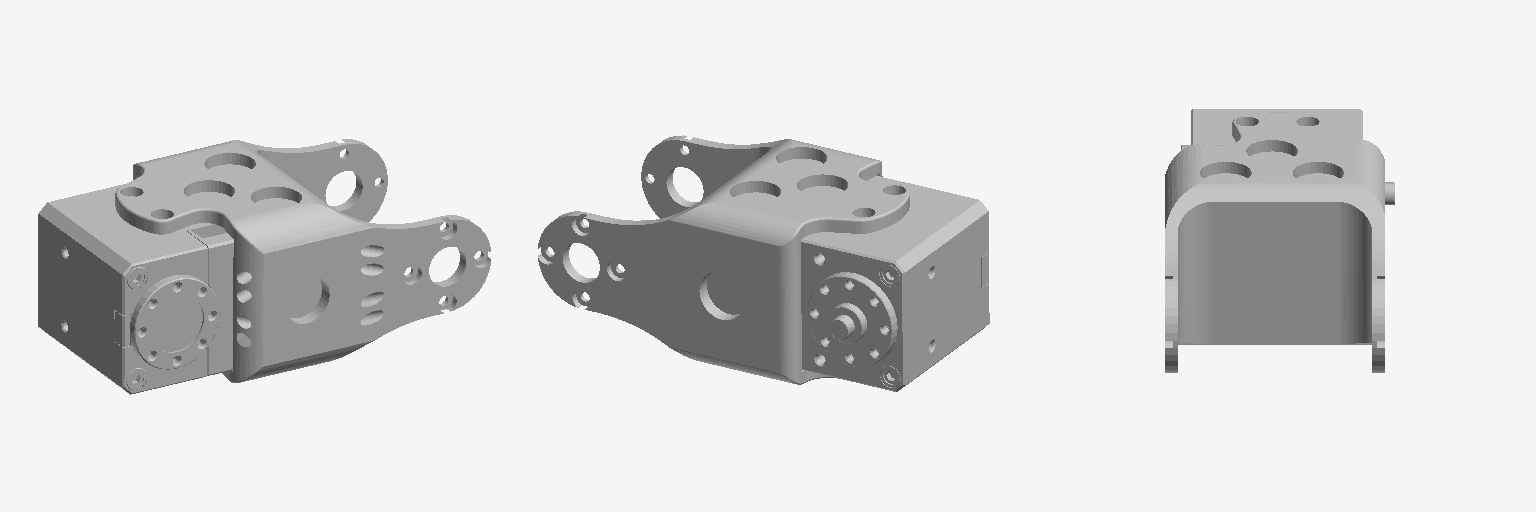
3 views of the same model, side by side, from view 1: azimuth 30°, elevation 25°; view 2: azimuth 150°, elevation 25°; view 3: azimuth 270°, elevation 25° (orthographic).
Visible parts, largest first — view 1: link4; view 2: link4; view 3: link4.
Part boxes in pixels (x1,y1,x2,y2): link4: (38, 139, 490, 394); link4: (538, 135, 989, 391); link4: (1165, 109, 1394, 372).
Size of the model in its own units: 0.0812 by 0.0352 by 0.0455.